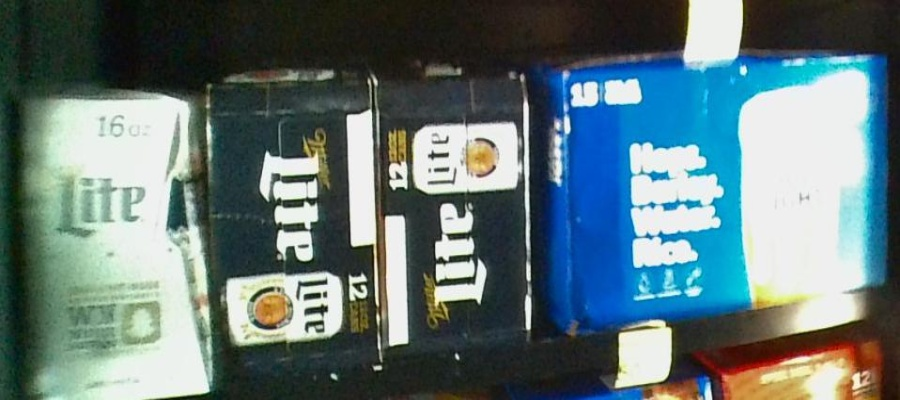bottle: (534, 59, 889, 295), (21, 84, 218, 397), (209, 76, 377, 373), (374, 72, 532, 348)
